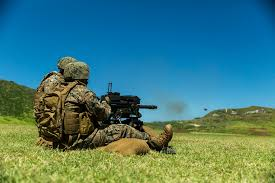gun: (98, 79, 158, 122)
